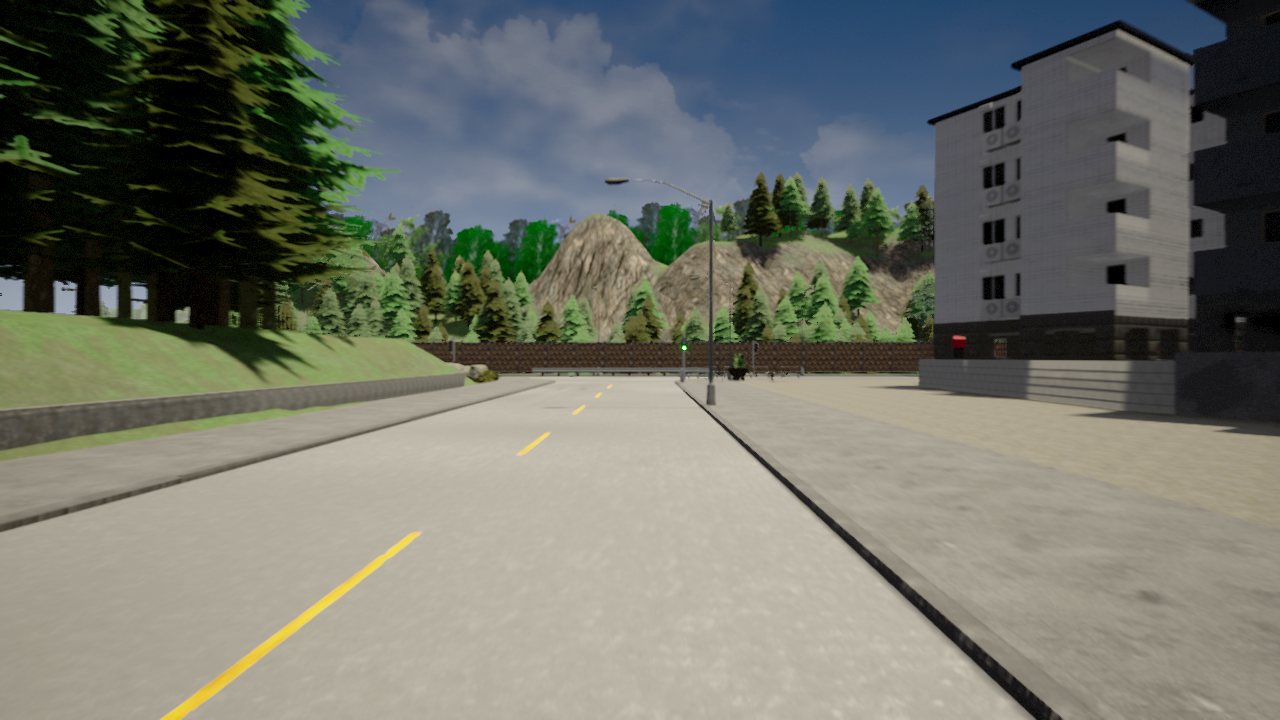green: (680, 338, 687, 350)
